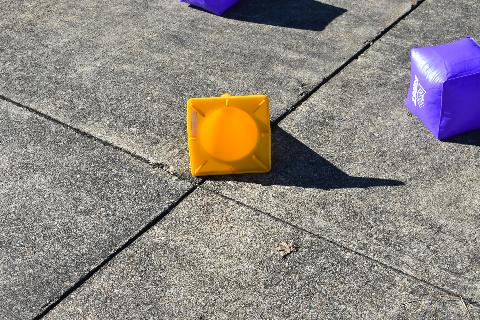cone: (187, 93, 271, 177)
cube: (405, 36, 479, 140), (182, 0, 242, 16)
